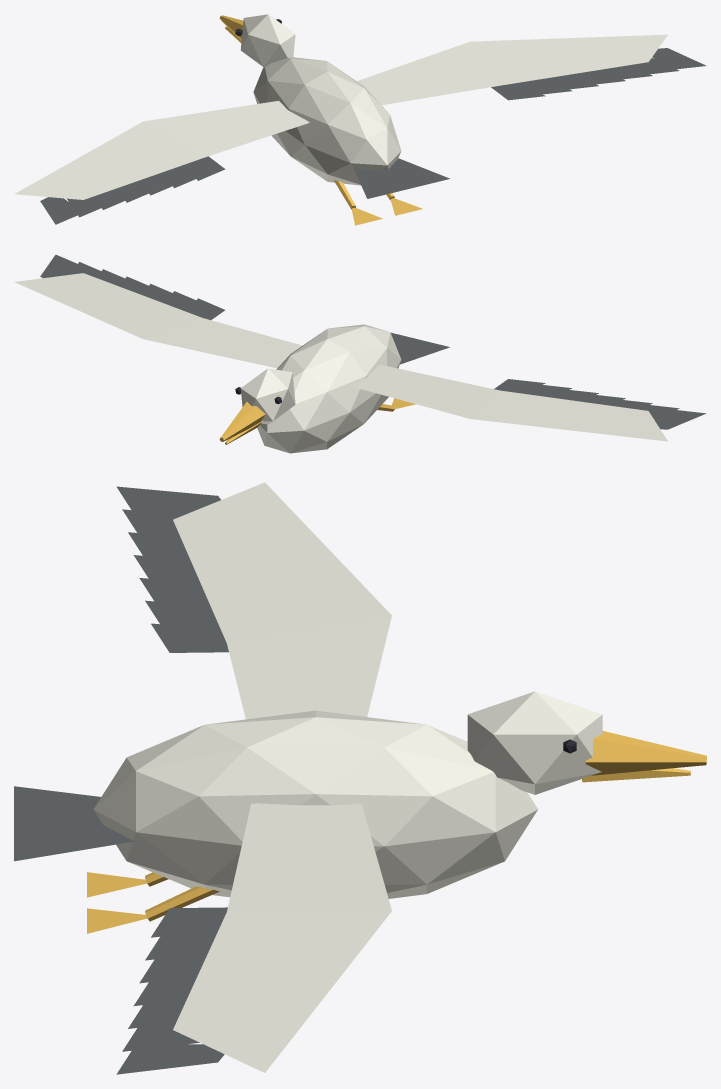
Rendered from Albatross.fbx.
The picture shows the model from 3 angles, top to bottom: view 1: azimuth 30°, elevation 25°; view 2: azimuth 150°, elevation 25°; view 3: azimuth 270°, elevation 25°; orthographic projection. The views are drawn at different scales.
Parts seen in each view (by area): view 1: Body, WingSurface1, WingSurface-1, Skull, Tail, FlightFeather1_6, FlightFeather-1_6, FlightFeather-1_0, FlightFeather1_0, FlightFeather-1_1, FlightFeather1_1, FlightFeather-1_2 (+7 smaller); view 2: Body, WingSurface1, WingSurface-1, Skull, Tail, UpperBeak, FlightFeather1_6, FlightFeather-1_6, FlightFeather1_0, FlightFeather-1_0, FlightFeather1_1, FlightFeather-1_1 (+2 smaller); view 3: Body, WingSurface-1, WingSurface1, Skull, Tail, UpperBeak, FlightFeather-1_6, FlightFeather1_6, FlightFeather1_0, FlightFeather-1_0, FlightFeather1_1, FlightFeather-1_1 (+11 smaller).
Boxes of the visible parts, x1,y1,x2,y2 form: Body: (253,57,401,185); WingSurface1: (14,100,309,199); WingSurface-1: (357,34,667,105); Skull: (240,14,295,67); Tail: (354,158,450,198); FlightFeather1_6: (40,197,77,224); FlightFeather-1_6: (652,48,706,69); FlightFeather-1_0: (491,83,545,100); FlightFeather1_0: (186,156,225,180); FlightFeather-1_1: (519,78,572,94); FlightFeather1_1: (163,164,195,187); FlightFeather-1_2: (547,74,598,89); Body: (257,324,401,453); WingSurface1: (351,364,667,441); WingSurface-1: (14,273,302,368); Skull: (240,368,295,424); Tail: (391,332,449,364); UpperBeak: (219,402,265,441); FlightFeather1_6: (654,410,706,429); FlightFeather-1_6: (40,254,77,278); FlightFeather1_0: (494,379,545,393); FlightFeather-1_0: (187,298,224,319); FlightFeather1_1: (523,385,572,397); FlightFeather-1_1: (164,291,195,311); Body: (93,710,537,898); WingSurface-1: (173,803,391,1072); WingSurface1: (173,482,391,719); Skull: (467,691,602,794); Tail: (14,786,134,861); UpperBeak: (585,731,706,775); FlightFeather-1_6: (116,1044,224,1074); FlightFeather1_6: (117,486,220,514); FlightFeather1_0: (151,623,228,652); FlightFeather-1_0: (151,907,227,937); FlightFeather1_1: (145,600,220,628); FlightFeather-1_1: (145,931,217,960).
Size of the model in its own units: 4.4 by 0.735 by 2.18.
